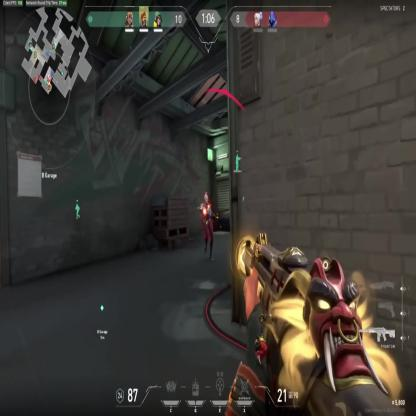enemy: (200, 194, 217, 262)
enemy_head: (204, 193, 209, 204)
